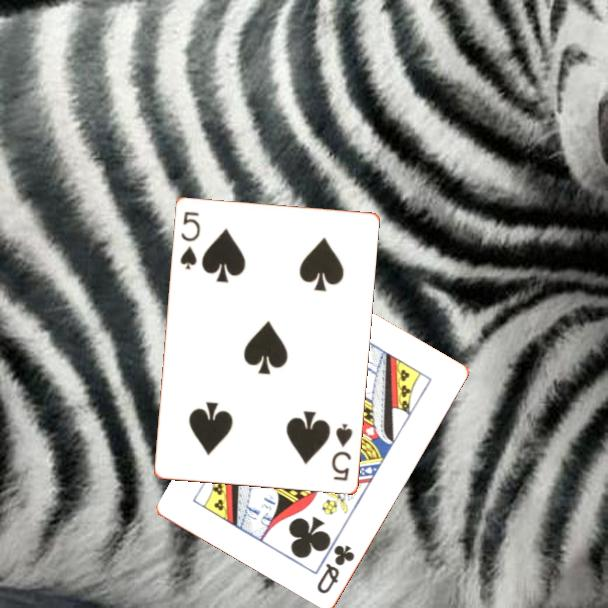c12: (313, 542, 358, 597)
s05: (328, 420, 355, 484), (177, 208, 203, 272)
